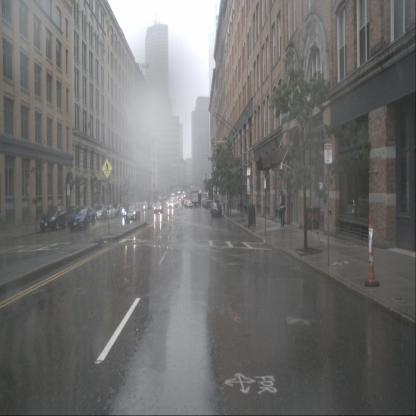human-pedestrian-adult: (278, 190, 286, 228)
movable_object-trafficcone: (364, 214, 380, 286)
vehicle-bus-rigid: (177, 191, 181, 199)
vehicle-car: (40, 205, 68, 233), (68, 206, 96, 230), (124, 204, 140, 223), (94, 205, 108, 220), (210, 202, 222, 217), (104, 205, 116, 219), (111, 202, 122, 216), (154, 202, 164, 214), (185, 200, 193, 209), (140, 202, 148, 210), (205, 200, 212, 209), (204, 198, 210, 208), (146, 202, 152, 210), (170, 193, 175, 202), (168, 200, 173, 208), (184, 199, 189, 206)
vehicle-truck: (192, 191, 199, 207), (166, 198, 178, 207), (196, 193, 202, 206)
